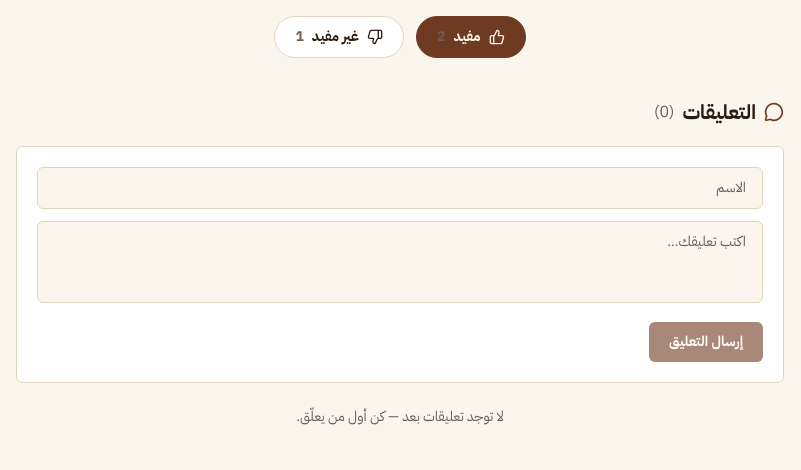
Test: تفاعلات المقال العامة › يبقي الحالة وCookie عند فشل الحذف
Click the button "مفيد 2": (471, 37) [416,16,526,58]
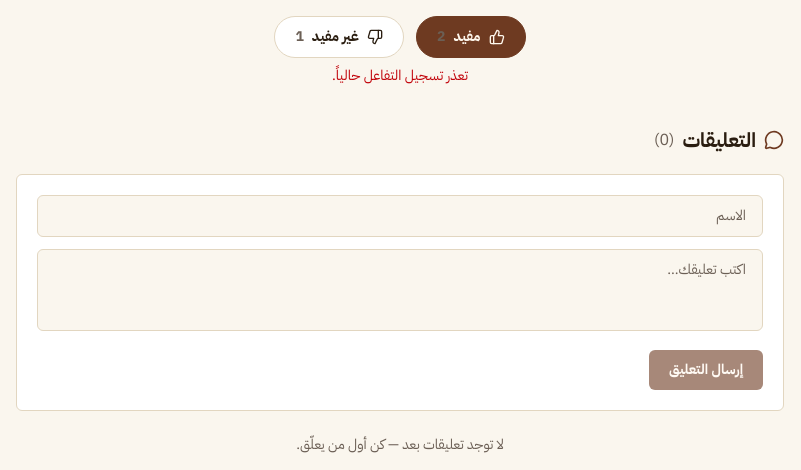
Result: the message shows "تعذر تسجيل التفاعل" at [332,65,468,86]
